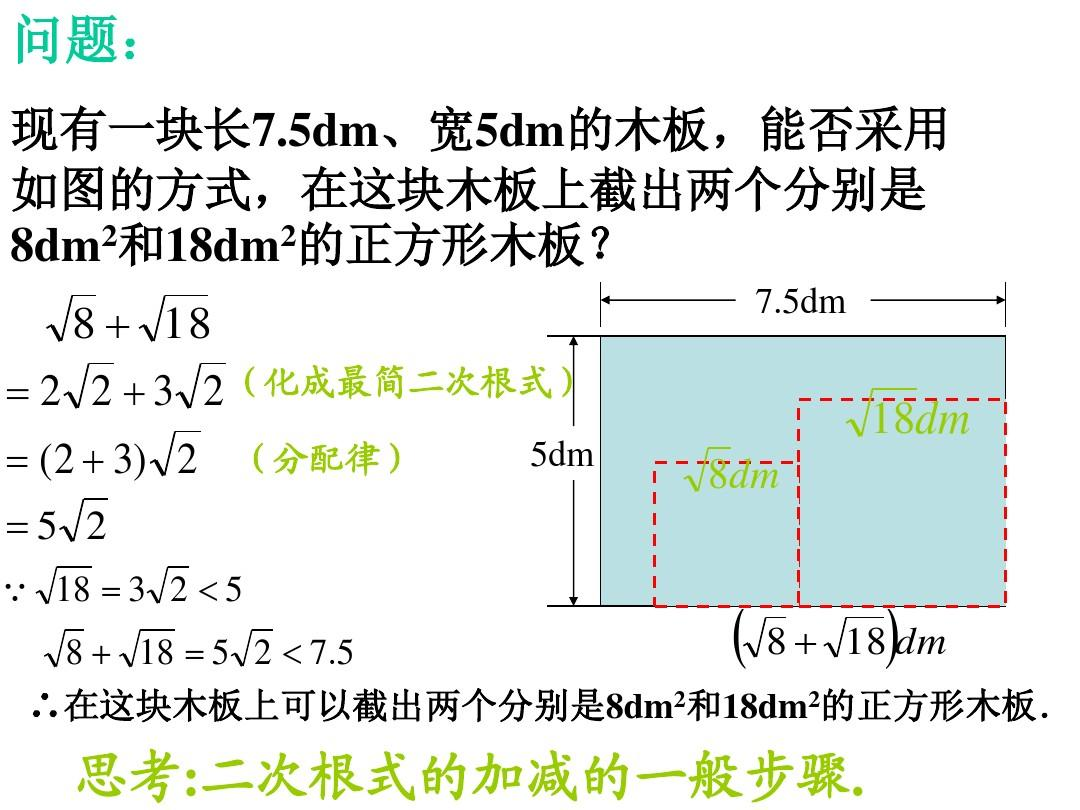sqrt: (39, 284, 109, 349), (135, 289, 216, 345), (827, 611, 892, 667), (58, 490, 120, 547), (175, 357, 234, 415), (147, 430, 212, 479), (67, 355, 119, 414), (35, 567, 102, 610), (146, 560, 197, 612), (753, 609, 793, 670), (126, 625, 182, 667), (48, 624, 94, 669), (235, 628, 280, 668)
square: (102, 222, 120, 248), (277, 223, 294, 247)
